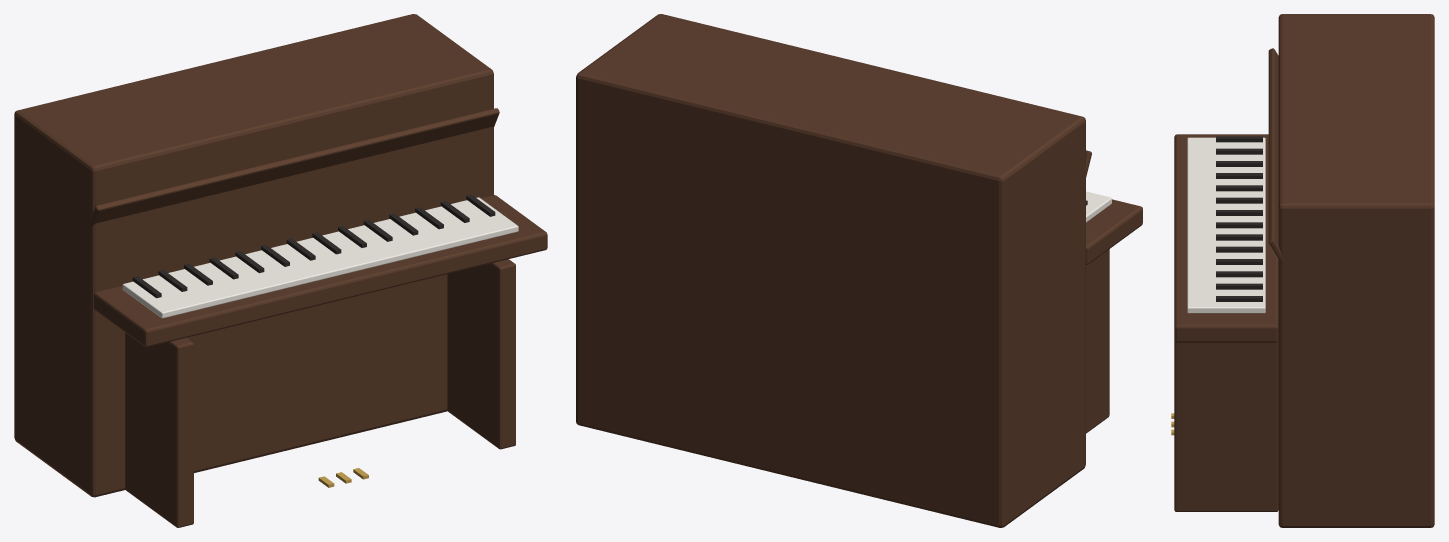
Rendered from hh_piano.glb.
3 renders of one model, left to right at view 1: azimuth 30°, elevation 25°; view 2: azimuth 150°, elevation 25°; view 3: azimuth 270°, elevation 25°, orthographic. The views are drawn at different scales.
Visible parts, largest first — view 1: body, keys, key_shelf, leg, leg.001, music_rest; view 2: body, leg, key_shelf; view 3: body, leg.001, keys, key_shelf, music_rest, black_key, black_key.001, black_key.004, black_key.005, black_key.007, black_key.008, black_key.009 (+2 smaller).
Boxes of the visible parts, box(x1,y1,x2,y2) form: body: box(14, 14, 493, 497); keys: box(122, 197, 518, 318); key_shelf: box(93, 195, 547, 347); leg: box(125, 332, 193, 527); leg.001: box(447, 259, 515, 449); music_rest: box(89, 108, 499, 226); body: box(576, 14, 1085, 527); leg: box(1086, 249, 1109, 433); key_shelf: box(1086, 199, 1142, 264); body: box(1278, 14, 1434, 527); leg.001: box(1174, 340, 1278, 511); keys: box(1187, 137, 1265, 313); key_shelf: box(1174, 134, 1278, 342); music_rest: box(1268, 48, 1285, 264); black_key: box(1216, 136, 1262, 142); black_key.001: box(1216, 148, 1262, 154); black_key.004: box(1216, 185, 1262, 191); black_key.005: box(1216, 197, 1262, 203); black_key.007: box(1216, 222, 1262, 228); black_key.008: box(1216, 234, 1262, 240); black_key.009: box(1216, 246, 1262, 252).
Bounding box in the file's own units: 1.4 × 1.1 × 0.81.
